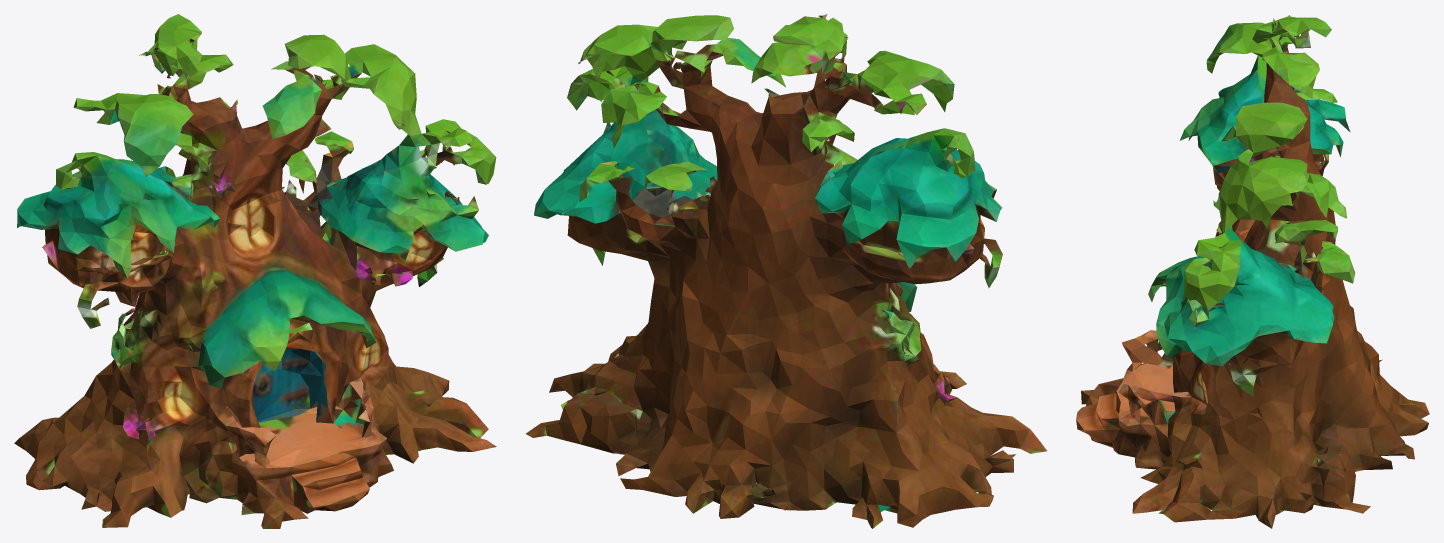
File: fairy_treehouse_1117.glb
3 views of the same model, side by side, from view 1: azimuth 30°, elevation 25°; view 2: azimuth 150°, elevation 25°; view 3: azimuth 270°, elevation 25° (orthographic). The views are drawn at different scales.
Parts seen in each view (by area): view 1: world; view 2: world; view 3: world.
Boxes of the visible parts, x1=… form: world: x1=14, y1=14, x2=496, y2=528; world: x1=526, y1=14, x2=1047, y2=528; world: x1=1076, y1=15, x2=1429, y2=528.
Size of the model in its own units: 1.07 by 1 by 0.8176.
Materials: 1 (1 with a texture image).
